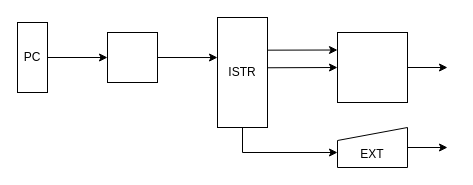
Image size: 473x185. Some labels were removed from this diagram. Here are the shapes that lost their labels. From the top down, the centre of each, then its label:
point (132, 57): MI
point (372, 67): REG
